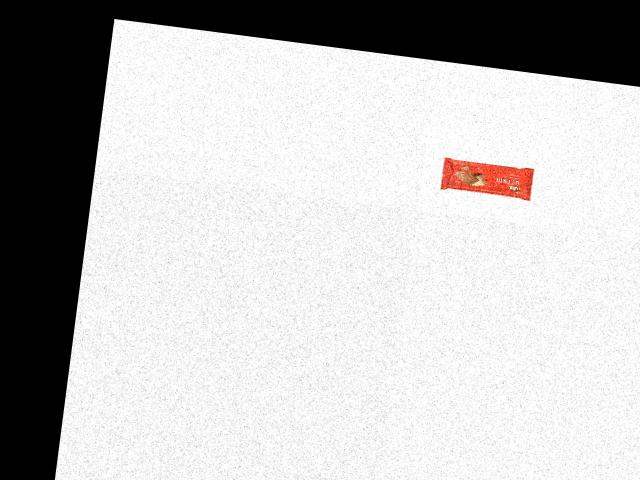chocolate: (441, 156, 538, 201)
